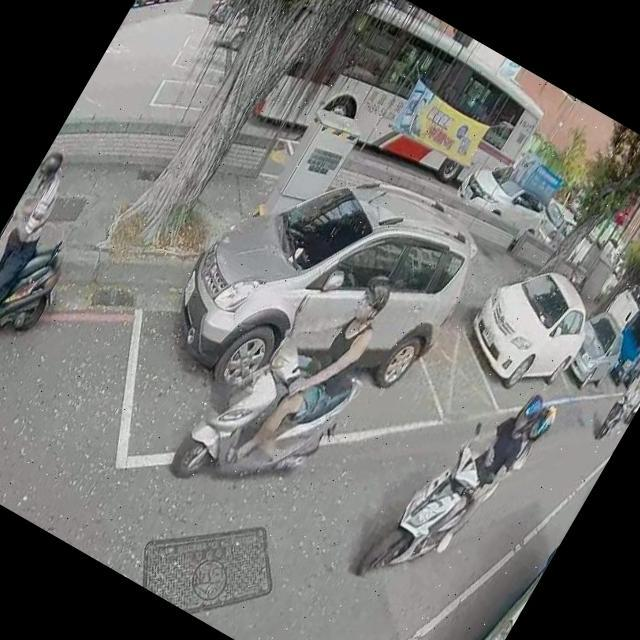person: (211, 242, 408, 498), (402, 368, 552, 574), (430, 384, 563, 563), (0, 143, 88, 377), (601, 371, 640, 440), (211, 0, 239, 18)
